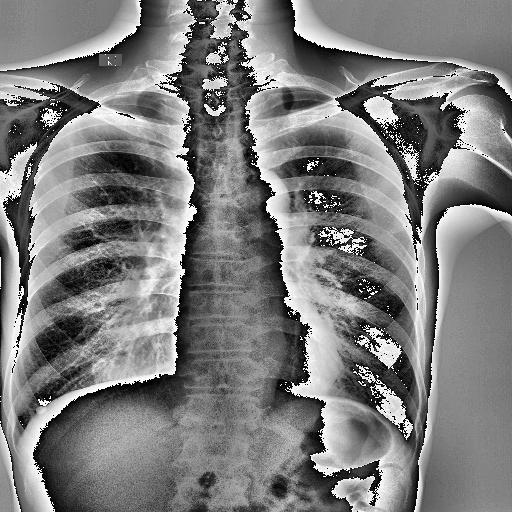11- Pleural thickening: (87, 90, 170, 110)
2- Calcification: (36, 406, 46, 414)
8- Nodule-Mass: (32, 404, 48, 414)
9- Other lesion: (35, 404, 47, 414)
